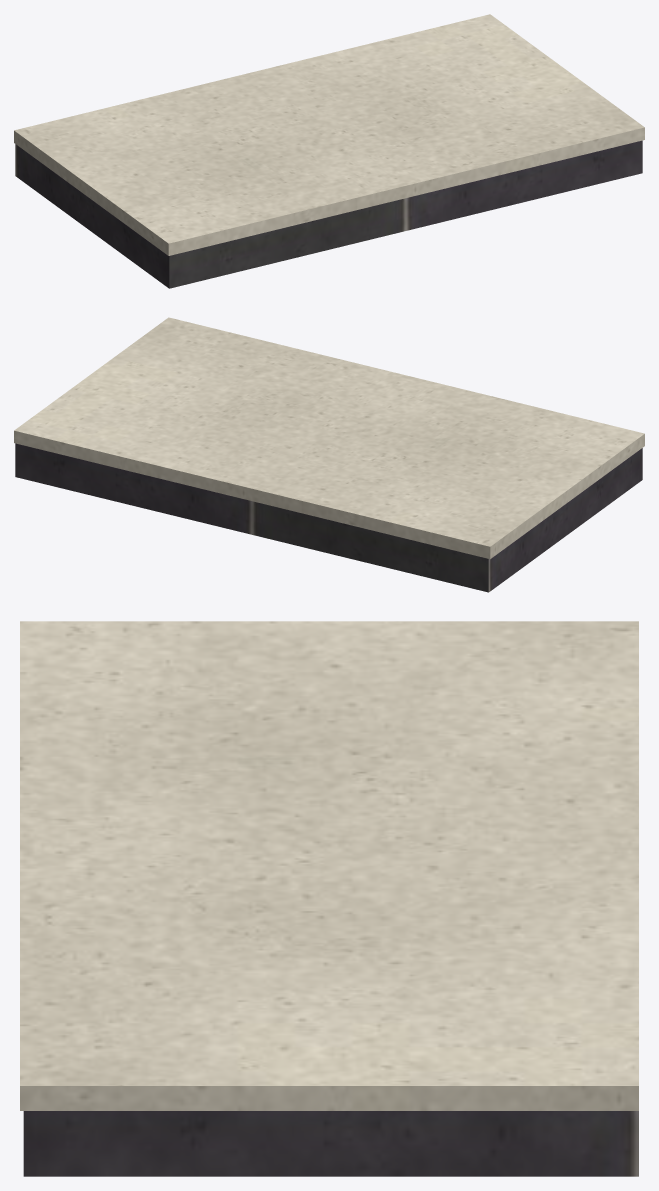
Rendered from exit_step.glb.
3 renders of one model, top to bottom at view 1: azimuth 30°, elevation 25°; view 2: azimuth 150°, elevation 25°; view 3: azimuth 270°, elevation 25°, orthographic. The views are drawn at different scales.
Visible parts, largest first — view 1: exit_step_trim, exit_step_plinth; view 2: exit_step_trim, exit_step_plinth; view 3: exit_step_trim, exit_step_plinth.
Boxes of the visible parts, box(x1,y1,x2,y2) form: exit_step_trim: box(14, 14, 644, 255); exit_step_plinth: box(15, 140, 642, 288); exit_step_trim: box(14, 317, 644, 559); exit_step_plinth: box(15, 443, 642, 592); exit_step_trim: box(20, 621, 638, 1110); exit_step_plinth: box(23, 1111, 638, 1176).
Size of the model in its own units: 1.6 by 0.148 by 0.9.
Materials: 2 (2 with a texture image).
